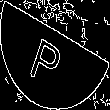P_NE: (35, 24, 75, 86)
